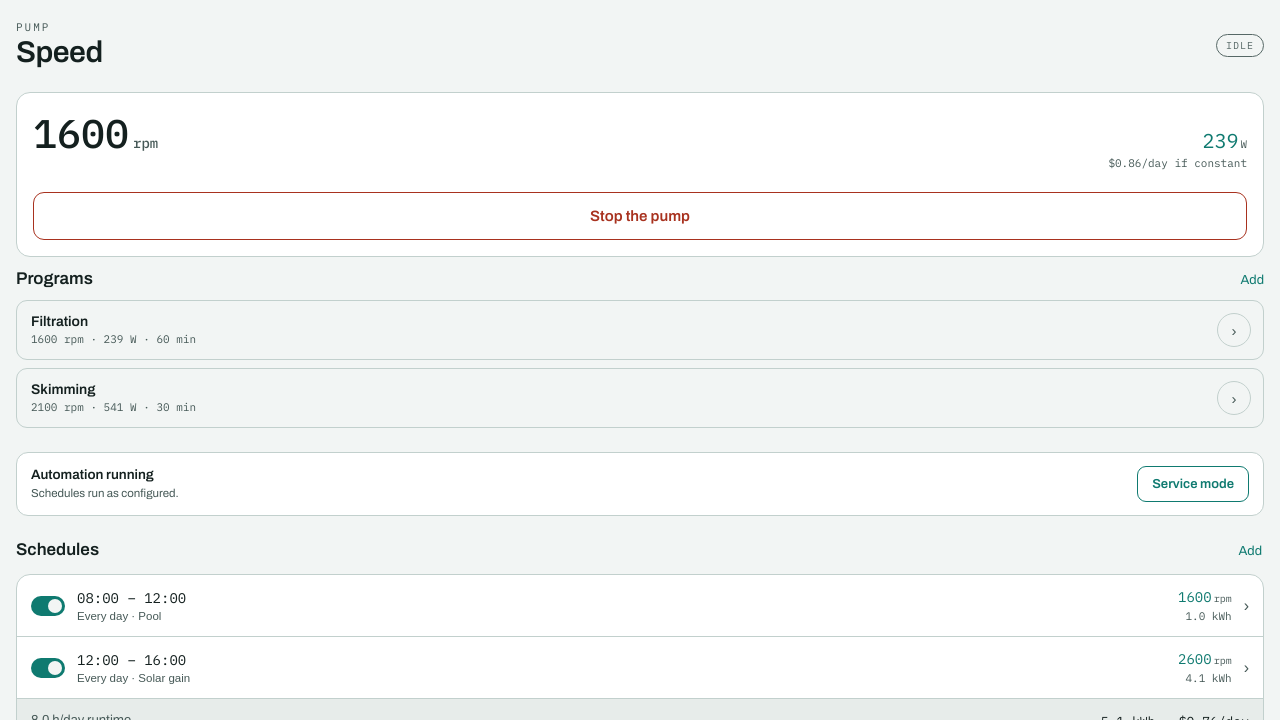
Test: Pump — schedules › opens the schedule editor from its Add
Click the button with aria-label "Add schedule".
click(1250, 551)  # box [1236, 540, 1264, 562]
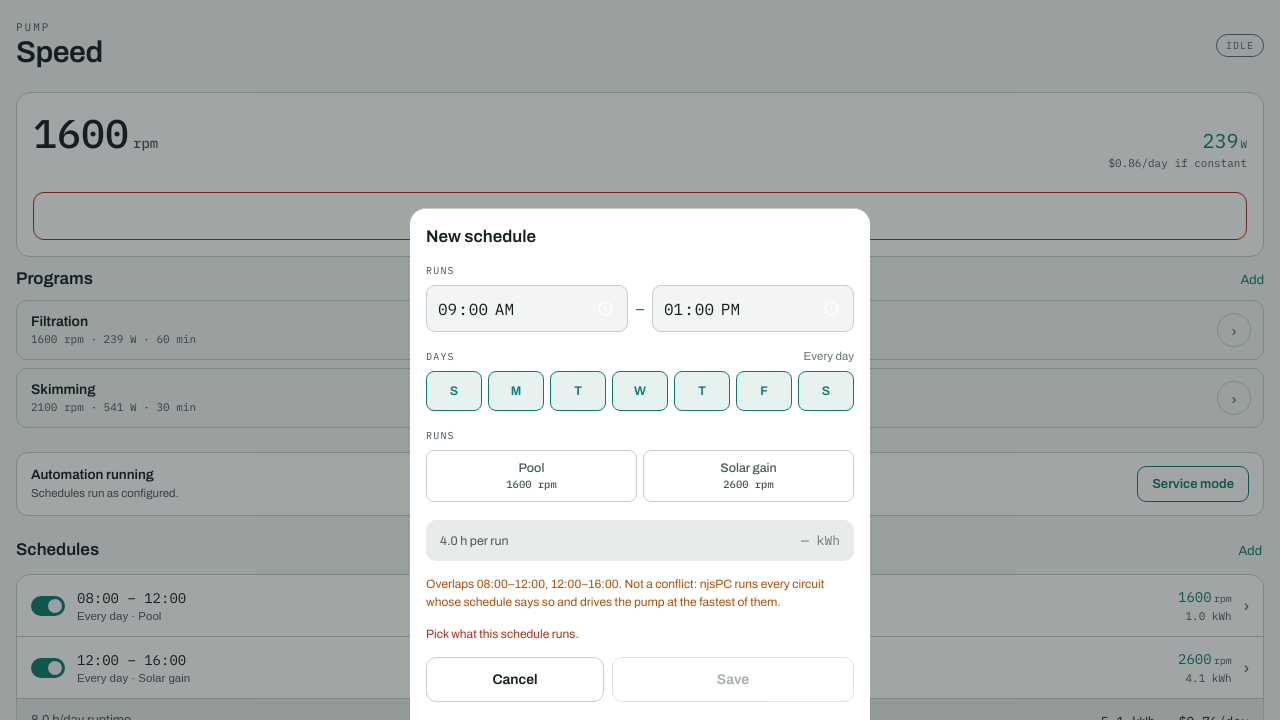
Expected: the dialog is shown, [410, 208, 870, 719]
